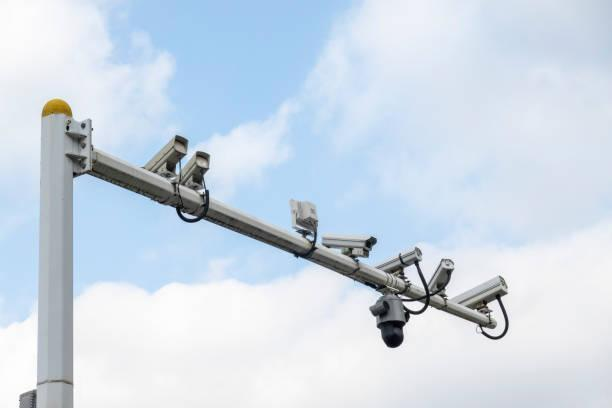camera: (453, 265, 521, 333), (362, 285, 418, 353), (131, 122, 193, 179), (320, 212, 379, 264), (188, 137, 215, 207), (384, 240, 423, 280), (426, 252, 459, 297)
